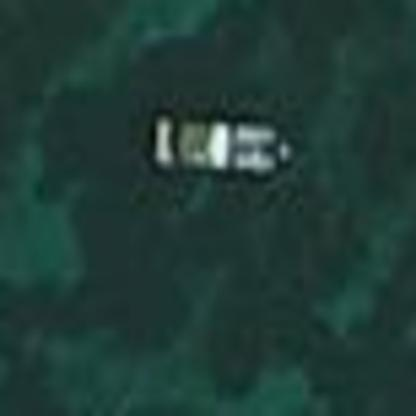ship: (142, 99, 300, 184)
